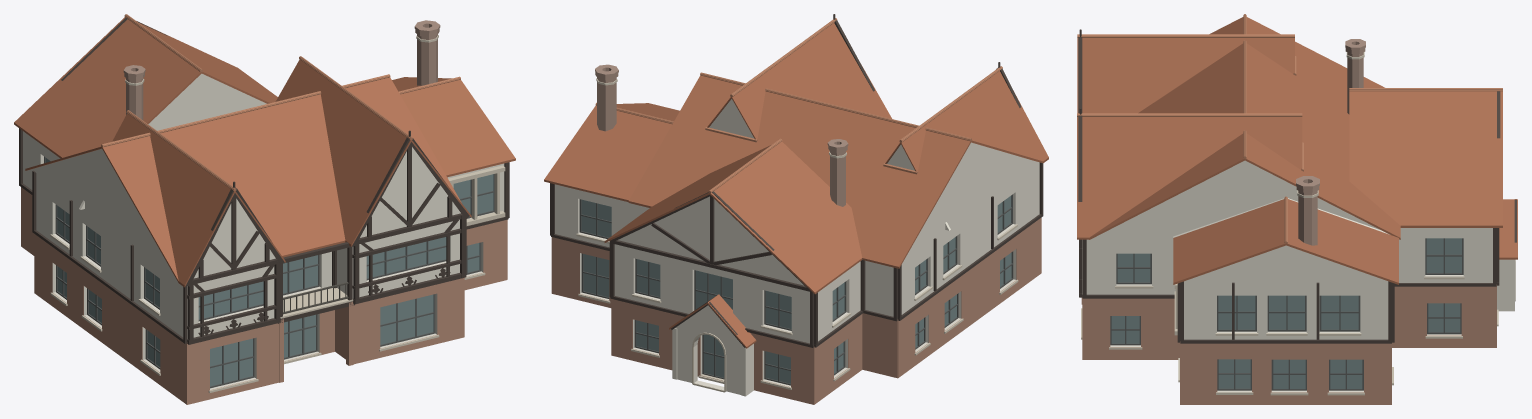
The model's file is changning-luobiegen-garden-villa-lod.glb.
3 renders of one model, left to right at view 1: azimuth 30°, elevation 25°; view 2: azimuth 150°, elevation 25°; view 3: azimuth 270°, elevation 25°, orthographic. The views are drawn at different scales.
Parts seen in each view (by area): view 1: 罗别根花园主宅（南向双山墙与露木构阳台）; view 2: 罗别根花园主宅（南向双山墙与露木构阳台）; view 3: 罗别根花园主宅（南向双山墙与露木构阳台）.
Part boxes in pixels (x1,y1,x2,y2): 罗别根花园主宅（南向双山墙与露木构阳台）: (14,14,515,404); 罗别根花园主宅（南向双山墙与露木构阳台）: (544,14,1048,404); 罗别根花园主宅（南向双山墙与露木构阳台）: (1077,14,1517,404).
Size of the model in its own units: 20.87 by 11.67 by 20.75.
